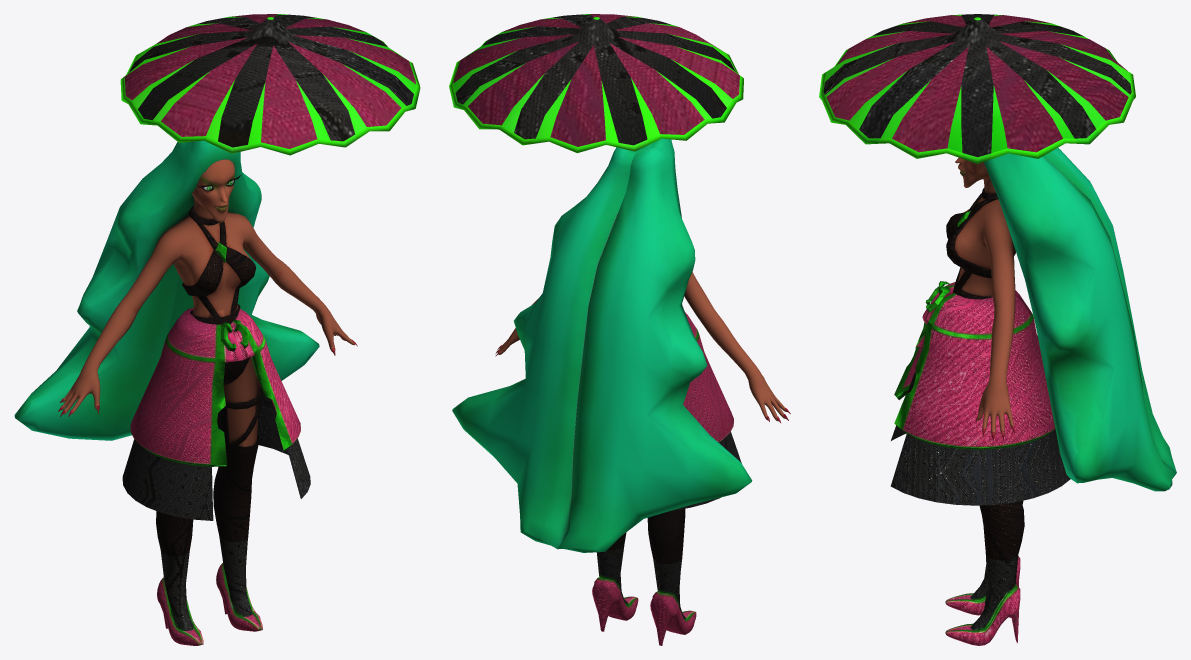
The model's file is assid_mary.glb.
3 views of the same model, side by side, from view 1: azimuth 30°, elevation 25°; view 2: azimuth 150°, elevation 25°; view 3: azimuth 270°, elevation 25° (orthographic). The views are drawn at different scales.
Visible parts, largest first — view 1: FemaleStylizedAnimeBasemesh.006; view 2: FemaleStylizedAnimeBasemesh.006; view 3: FemaleStylizedAnimeBasemesh.006.
Boxes of the visible parts, box(x1,y1,x2,y2) form: FemaleStylizedAnimeBasemesh.006: box(14, 14, 420, 645); FemaleStylizedAnimeBasemesh.006: box(449, 14, 790, 645); FemaleStylizedAnimeBasemesh.006: box(819, 14, 1176, 645).
Size of what is drawn, in the model's own units: 1.49 by 2.55 by 1.3.
Materials: 3 (3 with a texture image).
